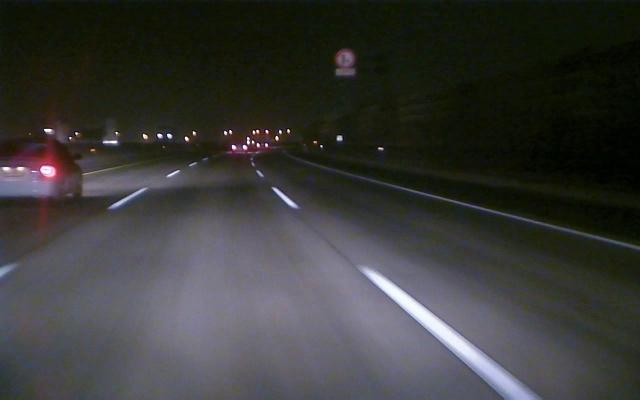lane: (264, 179, 543, 398), (383, 182, 640, 252), (1, 186, 151, 277)
